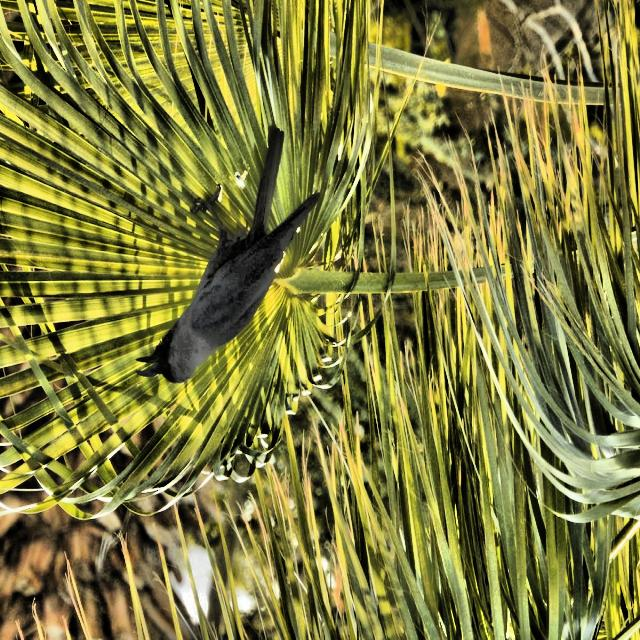crow: (136, 127, 367, 406)
